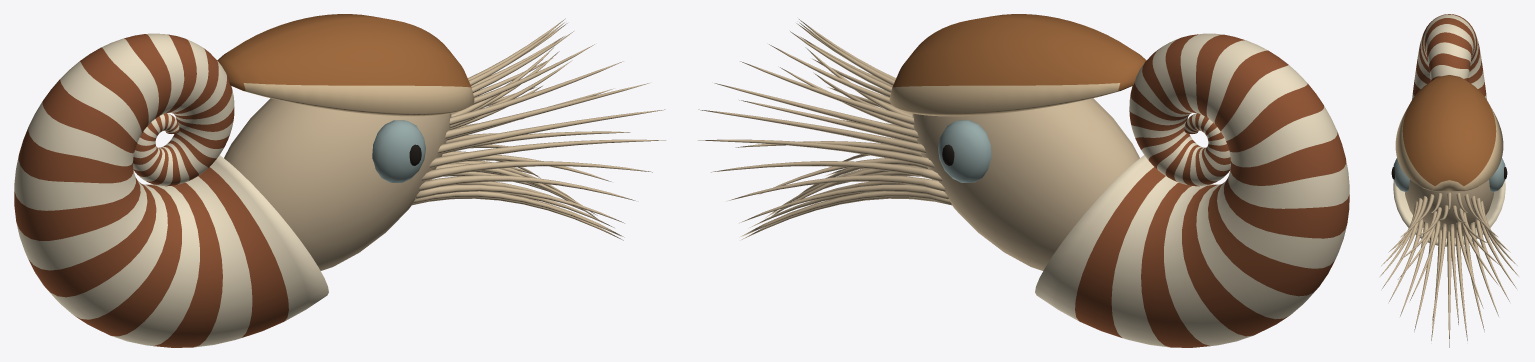
The picture shows the model from 3 angles, left to right: view 1: azimuth 30°, elevation 25°; view 2: azimuth 150°, elevation 25°; view 3: azimuth 270°, elevation 25°; orthographic projection. The views are drawn at different scales.
Parts seen in each view (by area): view 1: Closed_planispiral_shell_with_mouth_rim_and_recess, Closed_aperture_mantle_body, Broad_sloping_closed_hood_with_pale_edge, Left_closed_eye, Tentacle_0_11_closed_root_and_tip, Tentacle_0_12_closed_root_and_tip, Tentacle_0_10_closed_root_and_tip, Tentacle_0_13_closed_root_and_tip, Tentacle_0_14_closed_root_and_tip, Tentacle_0_09_closed_root_and_tip, Tentacle_0_15_closed_root_and_tip, Tentacle_0_08_closed_root_and_tip (+5 smaller); view 2: Closed_planispiral_shell_with_mouth_rim_and_recess, Closed_aperture_mantle_body, Broad_sloping_closed_hood_with_pale_edge, Right_closed_eye, Tentacle_0_01_closed_root_and_tip, Tentacle_0_00_closed_root_and_tip, Tentacle_0_02_closed_root_and_tip, Tentacle_0_23_closed_root_and_tip, Tentacle_0_22_closed_root_and_tip, Tentacle_0_03_closed_root_and_tip, Tentacle_0_21_closed_root_and_tip, Tentacle_0_04_closed_root_and_tip (+6 smaller); view 3: Broad_sloping_closed_hood_with_pale_edge, Closed_planispiral_shell_with_mouth_rim_and_recess, Closed_aperture_mantle_body, Tentacle_0_18_closed_root_and_tip, Tentacle_0_19_closed_root_and_tip, Tentacle_1_09_closed_root_and_tip, Tentacle_1_08_closed_root_and_tip, Left_closed_eye, Right_closed_eye, Tentacle_1_10_closed_root_and_tip, Tentacle_0_20_closed_root_and_tip, Tentacle_0_16_closed_root_and_tip (+22 smaller).
Boxes of the visible parts, x1,y1,x2,y2 form: Closed_planispiral_shell_with_mouth_rim_and_recess: (14, 33, 328, 347); Closed_aperture_mantle_body: (224, 98, 451, 270); Broad_sloping_closed_hood_with_pale_edge: (217, 14, 474, 116); Left_closed_eye: (372, 120, 425, 182); Tentacle_0_11_closed_root_and_tip: (429, 139, 665, 167); Tentacle_0_12_closed_root_and_tip: (421, 161, 652, 181); Tentacle_0_10_closed_root_and_tip: (437, 109, 665, 153); Tentacle_0_13_closed_root_and_tip: (418, 175, 635, 200); Tentacle_0_14_closed_root_and_tip: (415, 184, 624, 223); Tentacle_0_09_closed_root_and_tip: (445, 83, 649, 139); Tentacle_0_15_closed_root_and_tip: (412, 191, 621, 236); Tentacle_0_08_closed_root_and_tip: (449, 61, 623, 125); Closed_planispiral_shell_with_mouth_rim_and_recess: (1035, 33, 1349, 347); Closed_aperture_mantle_body: (912, 98, 1139, 270); Broad_sloping_closed_hood_with_pale_edge: (889, 14, 1146, 116); Right_closed_eye: (938, 120, 991, 182); Tentacle_0_01_closed_root_and_tip: (698, 139, 934, 167); Tentacle_0_00_closed_root_and_tip: (711, 161, 942, 181); Tentacle_0_02_closed_root_and_tip: (698, 109, 926, 153); Tentacle_0_23_closed_root_and_tip: (728, 175, 945, 200); Tentacle_0_22_closed_root_and_tip: (739, 184, 948, 223); Tentacle_0_03_closed_root_and_tip: (714, 83, 918, 139); Tentacle_0_21_closed_root_and_tip: (742, 191, 951, 236); Tentacle_0_04_closed_root_and_tip: (740, 61, 914, 125); Broad_sloping_closed_hood_with_pale_edge: (1395, 75, 1503, 191); Closed_planispiral_shell_with_mouth_rim_and_recess: (1393, 14, 1505, 246); Closed_aperture_mantle_body: (1405, 180, 1493, 238); Tentacle_0_18_closed_root_and_tip: (1446, 231, 1451, 347); Tentacle_0_19_closed_root_and_tip: (1455, 230, 1467, 340); Tentacle_1_09_closed_root_and_tip: (1449, 224, 1458, 324); Tentacle_1_08_closed_root_and_tip: (1432, 223, 1447, 322); Left_closed_eye: (1393, 158, 1409, 191); Right_closed_eye: (1489, 158, 1505, 191); Tentacle_1_10_closed_root_and_tip: (1456, 221, 1483, 308); Tentacle_0_20_closed_root_and_tip: (1463, 230, 1484, 331); Tentacle_0_16_closed_root_and_tip: (1414, 228, 1435, 331).
Bounding box in the file's own units: 0.3459 × 0.1748 × 0.118.
